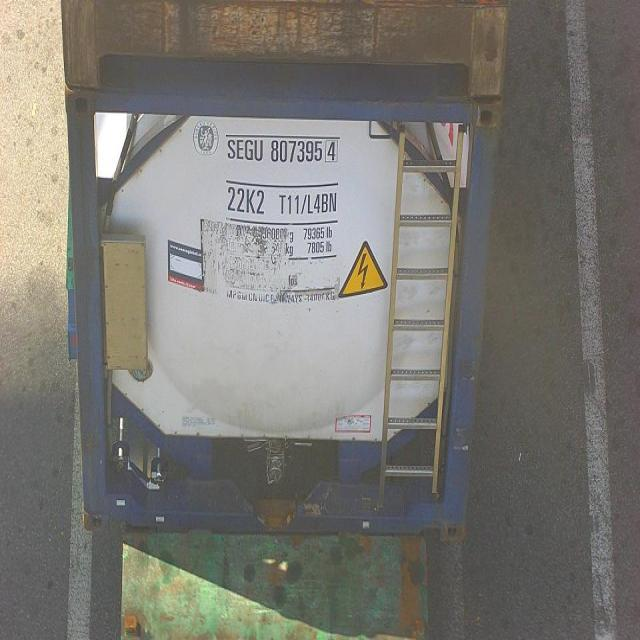ISO: (227, 186, 266, 217)
container_number: (228, 134, 340, 168)
